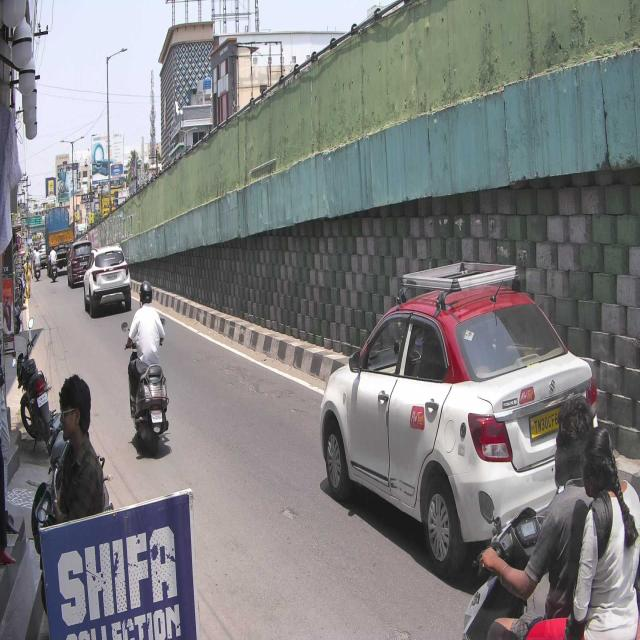single_rider: (121, 280, 170, 452)
